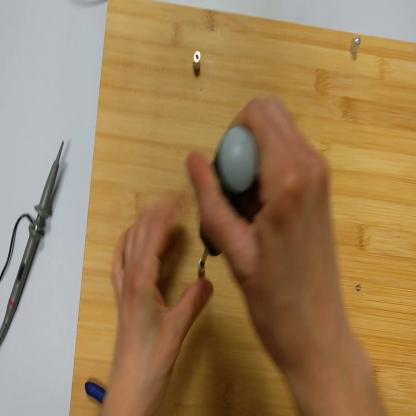hand: (188, 96, 348, 371), (111, 193, 213, 404)
oscilloscope probe tip: (2, 139, 63, 342)
pliers: (86, 381, 106, 403)
screwdriver-: (200, 125, 264, 272)
working area: (70, 2, 416, 416)
